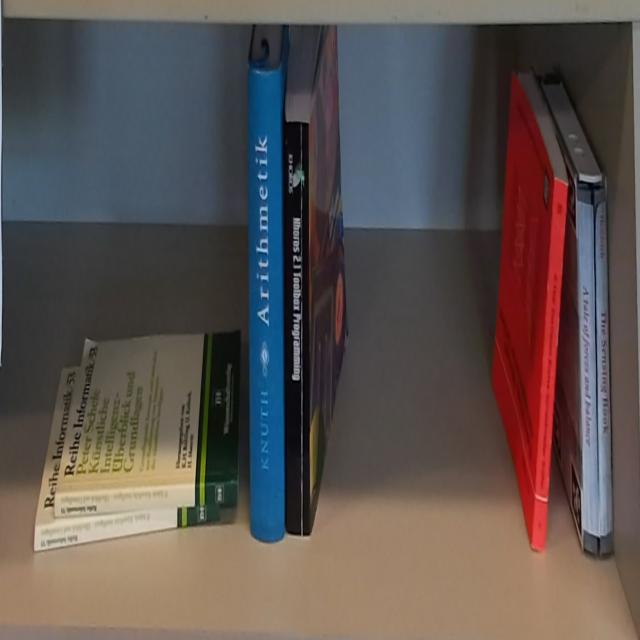Book Spine: (248, 62, 285, 543), (532, 177, 568, 555), (287, 121, 311, 540), (34, 503, 221, 552), (576, 187, 599, 554), (596, 183, 615, 554), (55, 481, 239, 519)
